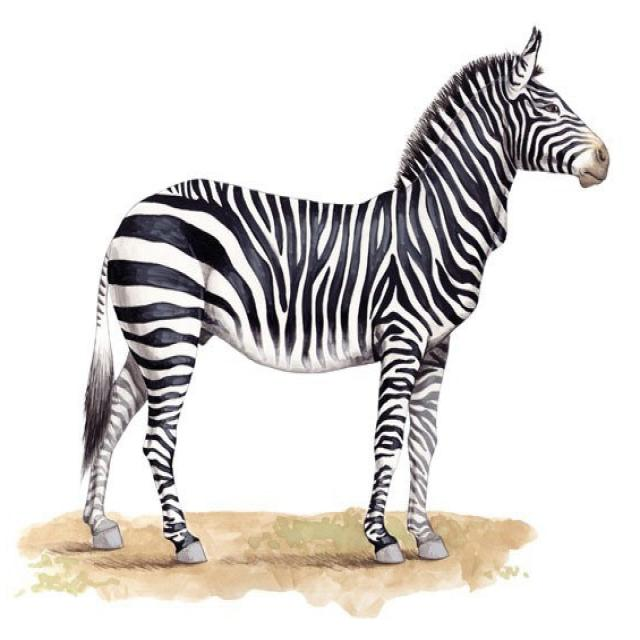zebra: (83, 28, 609, 561)
